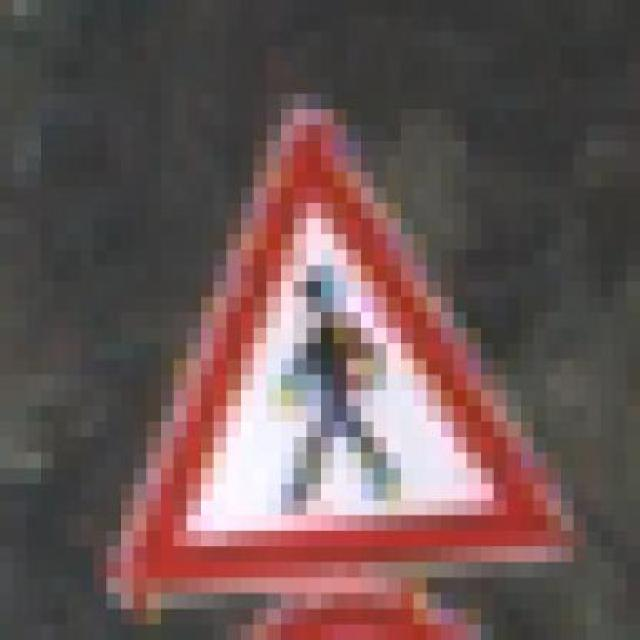Pedestrian Crossing: (106, 93, 574, 593)
